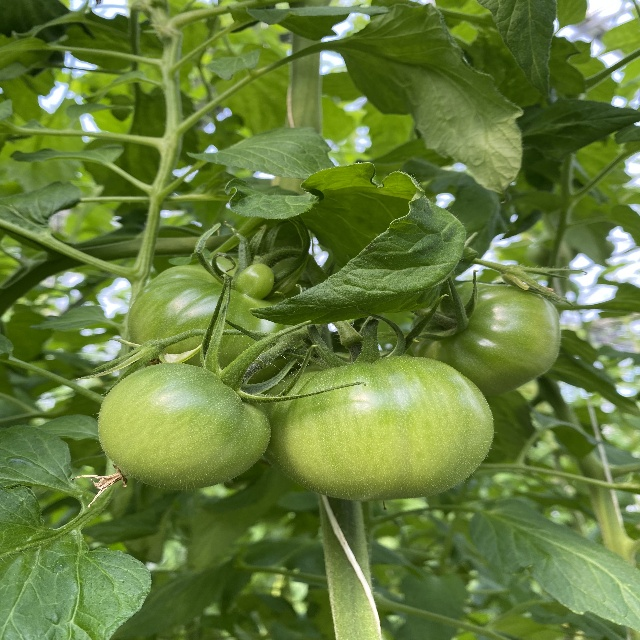b_green: (236, 351, 494, 500), (127, 258, 331, 387), (96, 363, 269, 491), (407, 280, 562, 397)
